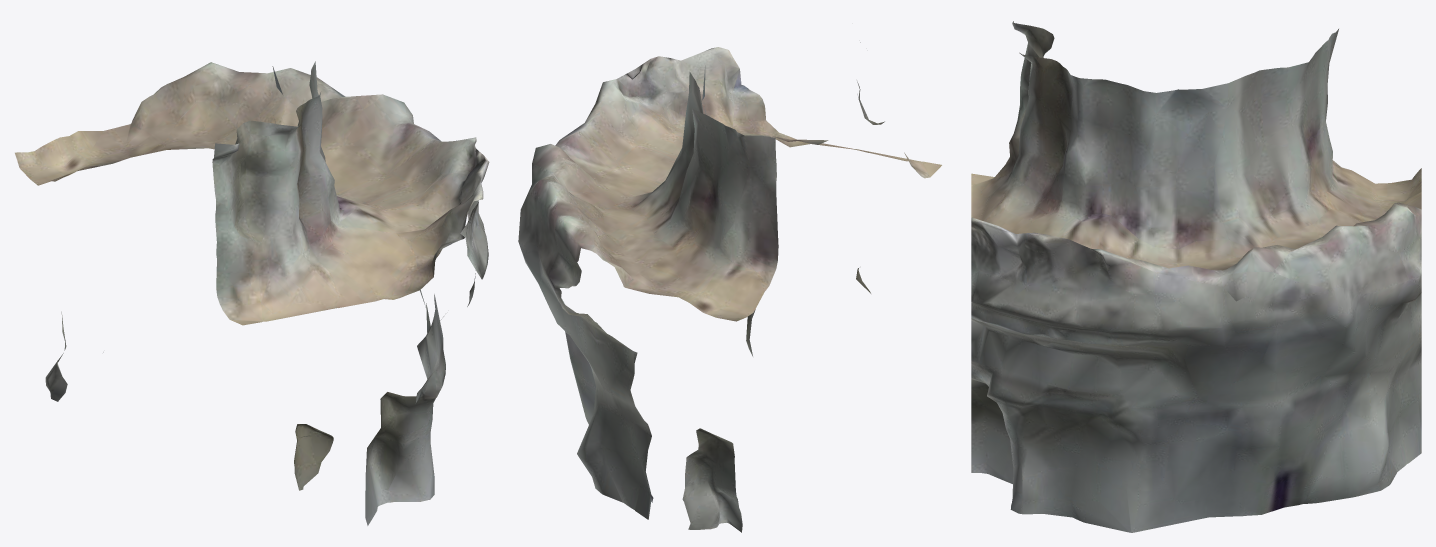
The picture shows the model from 3 angles, left to right: view 1: azimuth 30°, elevation 25°; view 2: azimuth 150°, elevation 25°; view 3: azimuth 270°, elevation 25°; orthographic projection. The views are drawn at different scales.
Bounding box in the file's own units: 2.63 × 3.31 × 3.41.
Materials: 1 (1 with a texture image).
